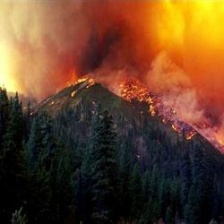fire: (71, 60, 215, 147)
smoke: (2, 1, 163, 76)
